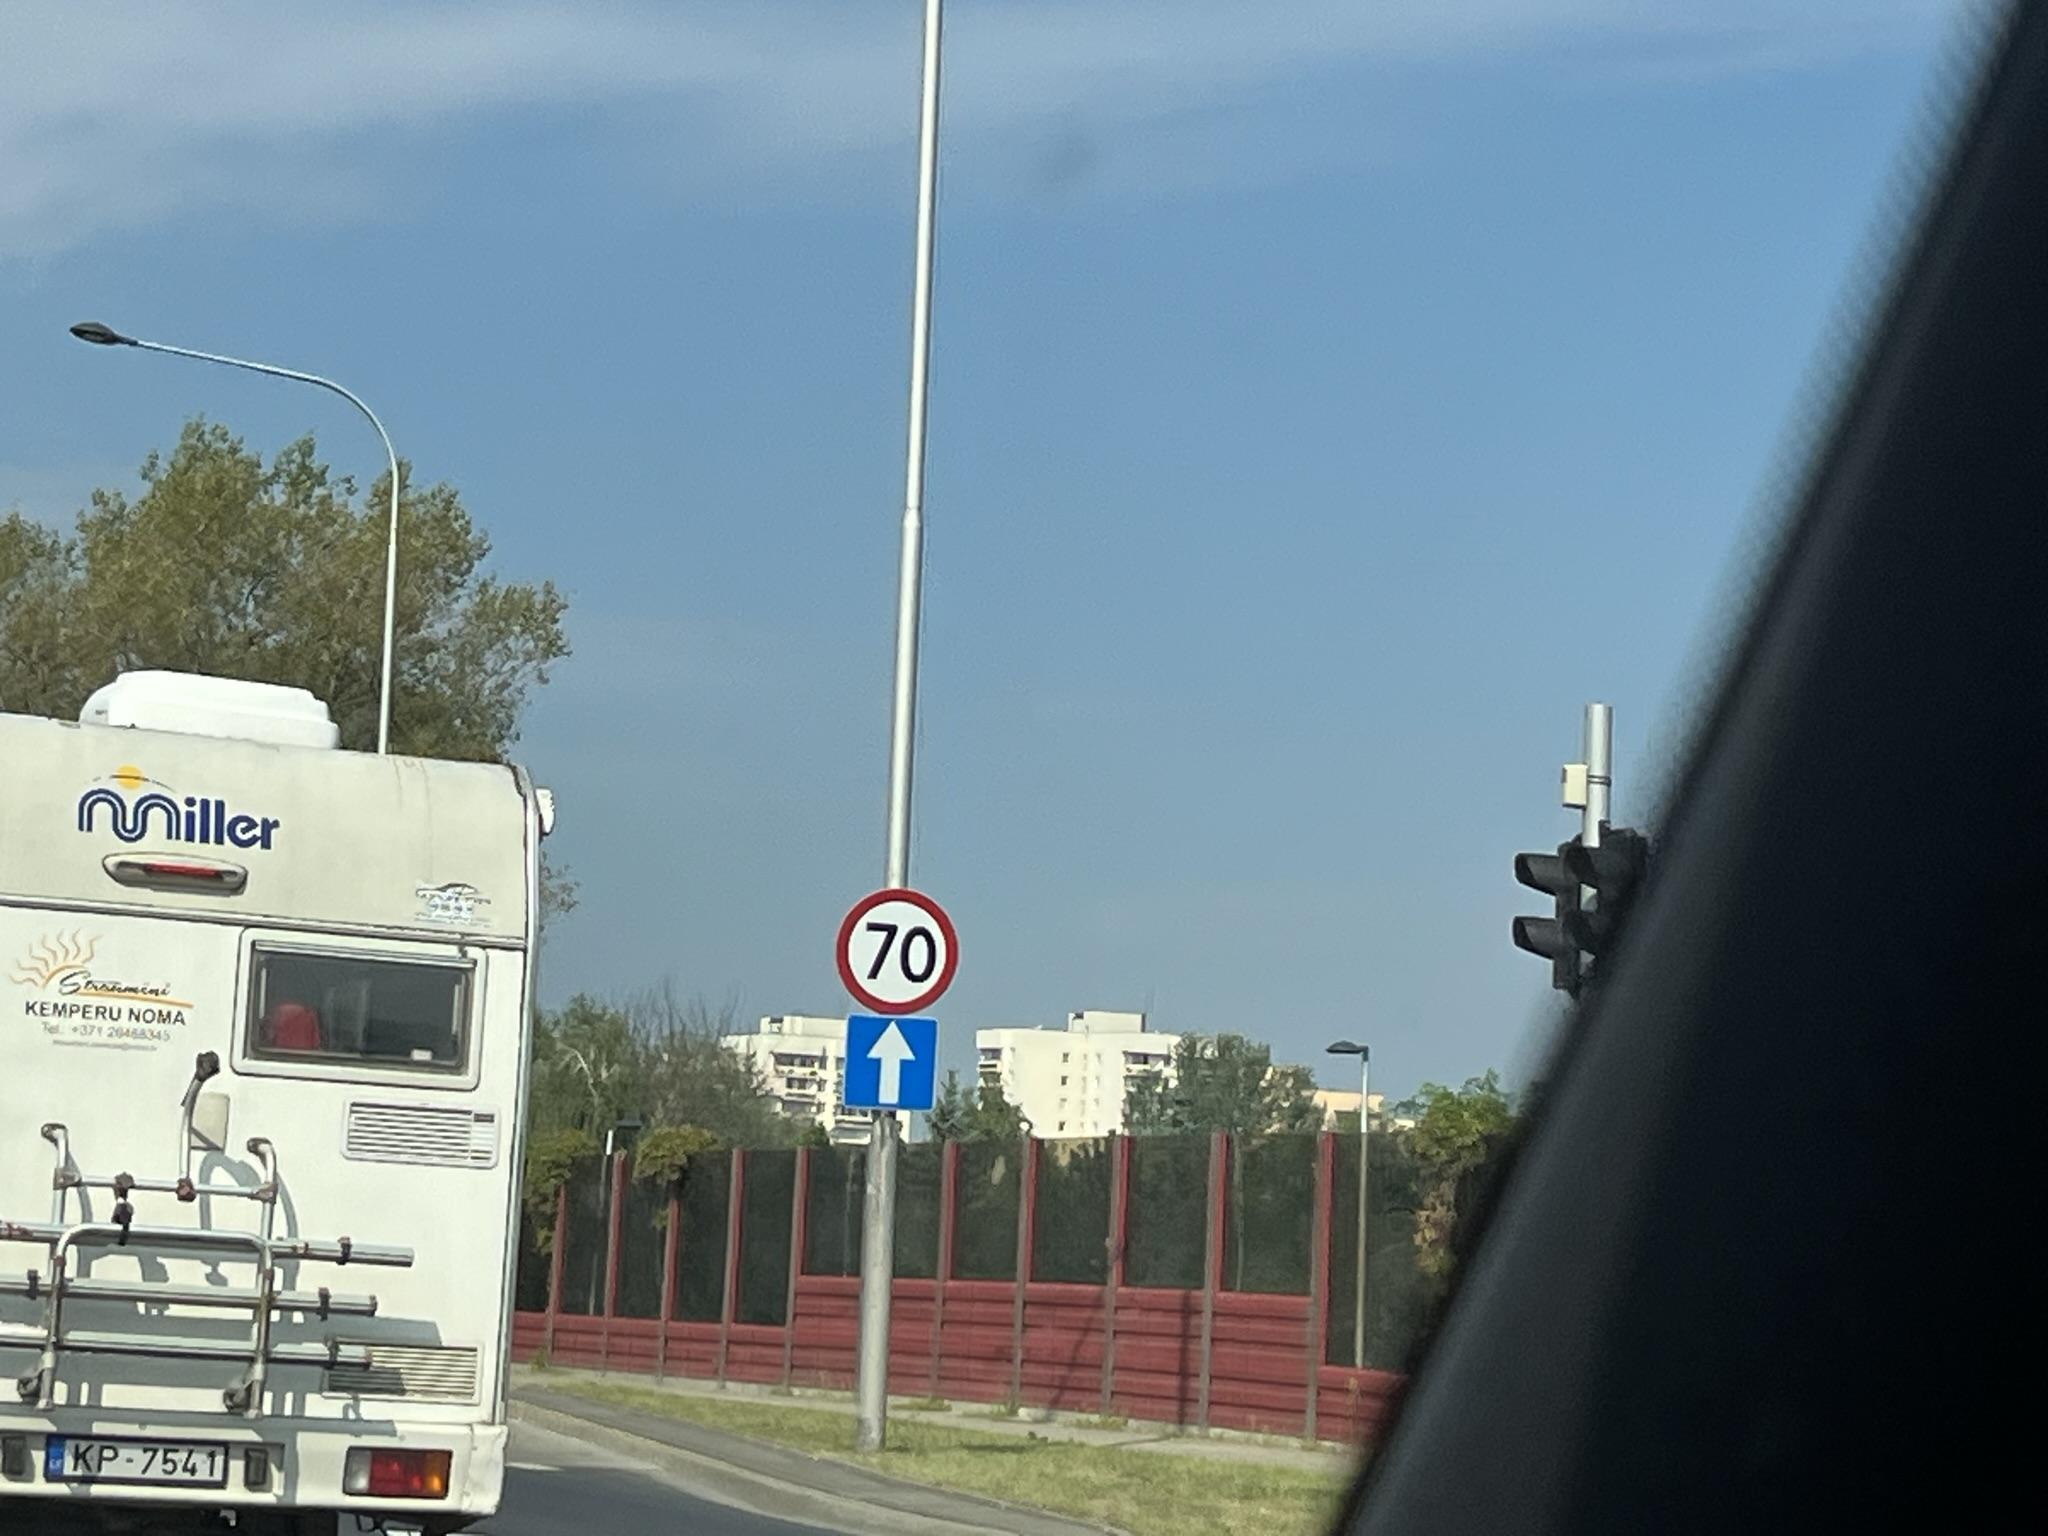information: (842, 1013, 942, 1112)
prohibitory: (834, 884, 958, 1018)
